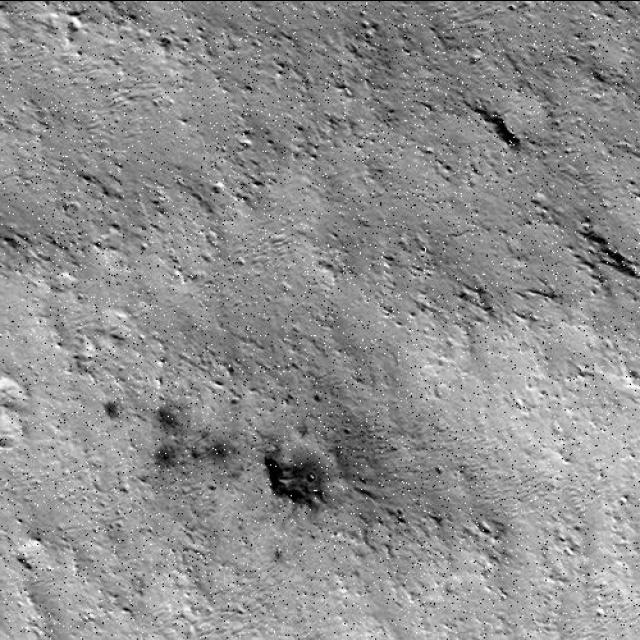crater: (260, 435, 342, 507), (12, 524, 56, 582), (0, 354, 27, 428), (0, 411, 28, 463), (0, 416, 26, 466)
